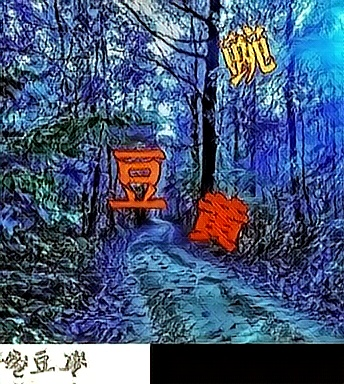B6B9: (109, 147, 171, 211)
BBC6: (189, 189, 251, 253)
CDE3: (219, 26, 281, 90)
